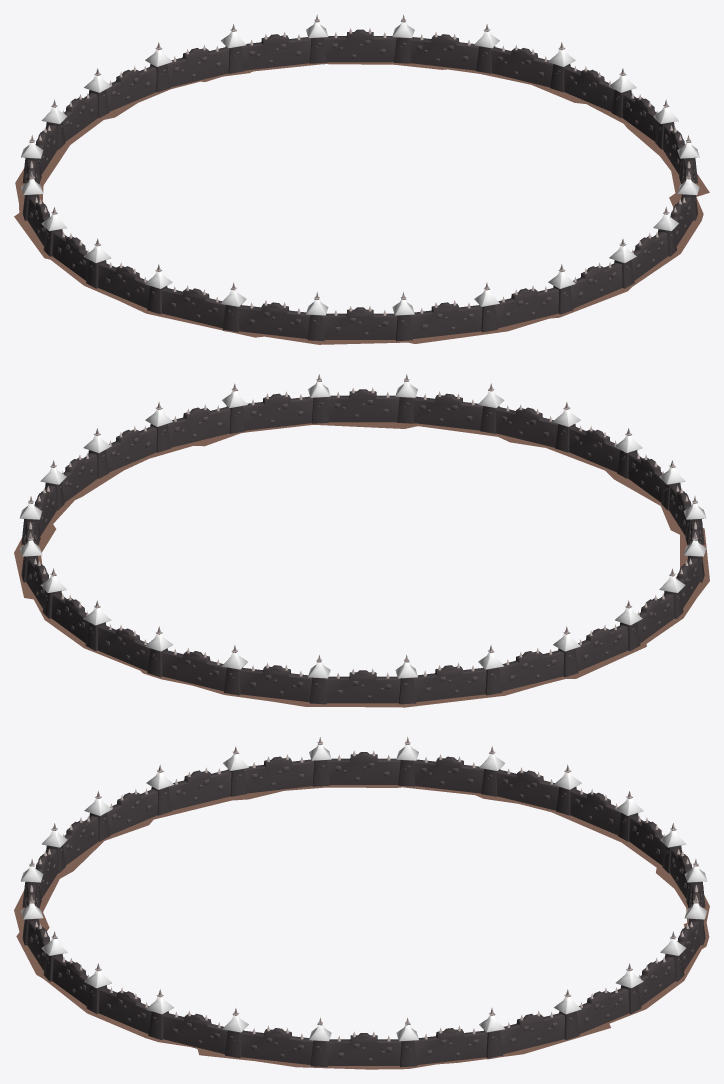
The model's file is SM_BossPlatform_01.fbx.
3 renders of one model, top to bottom at view 1: azimuth 30°, elevation 25°; view 2: azimuth 150°, elevation 25°; view 3: azimuth 270°, elevation 25°, orthographic.
Parts seen in each view (by area): view 1: SM_BossPlatform_01; view 2: SM_BossPlatform_01; view 3: SM_BossPlatform_01.
Part boxes in pixels (bbox=[...]): SM_BossPlatform_01: bbox=[14, 14, 709, 344]; SM_BossPlatform_01: bbox=[14, 374, 709, 707]; SM_BossPlatform_01: bbox=[14, 737, 709, 1069].
Size of the model in its own units: 6278 by 471 by 6282.
